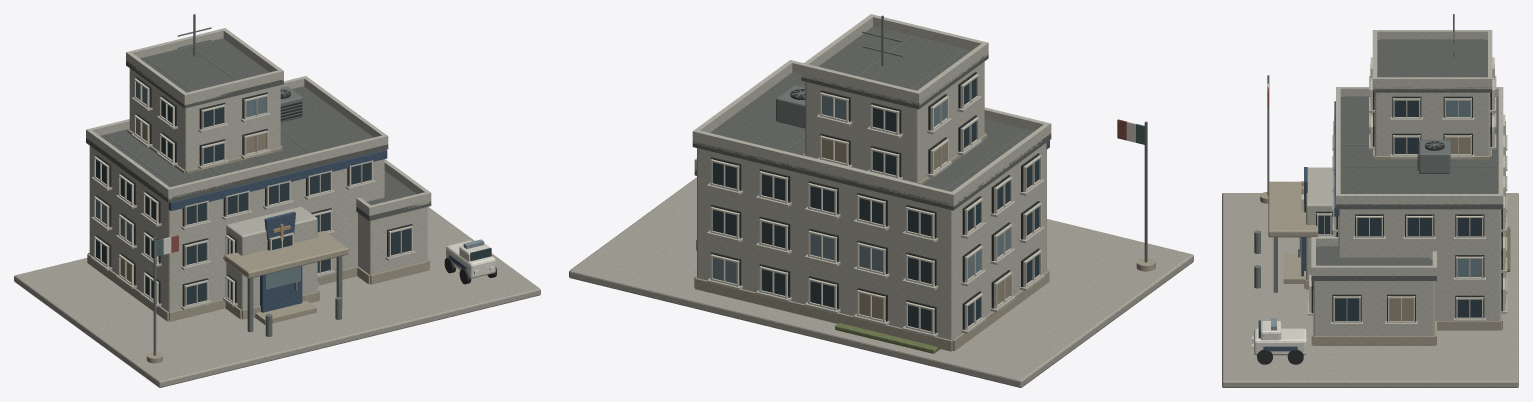
File: CIV_POLICE_3x2_002.glb
3 views of the same model, side by side, from view 1: azimuth 30°, elevation 25°; view 2: azimuth 150°, elevation 25°; view 3: azimuth 270°, elevation 25° (orthographic). The views are drawn at different scales.
Visible parts, largest first — view 1: CIV_POLICE_3x2_002_Visual; view 2: CIV_POLICE_3x2_002_Visual; view 3: CIV_POLICE_3x2_002_Visual.
Boxes of the visible parts, <box> form: CIV_POLICE_3x2_002_Visual: <box>14,14,540,387</box>; CIV_POLICE_3x2_002_Visual: <box>569,14,1193,387</box>; CIV_POLICE_3x2_002_Visual: <box>1222,14,1518,387</box>.
Size of what is drawn, in the model's own units: 5.92 by 3.77 by 3.92.
Materials: 19 (13 with a texture image).
